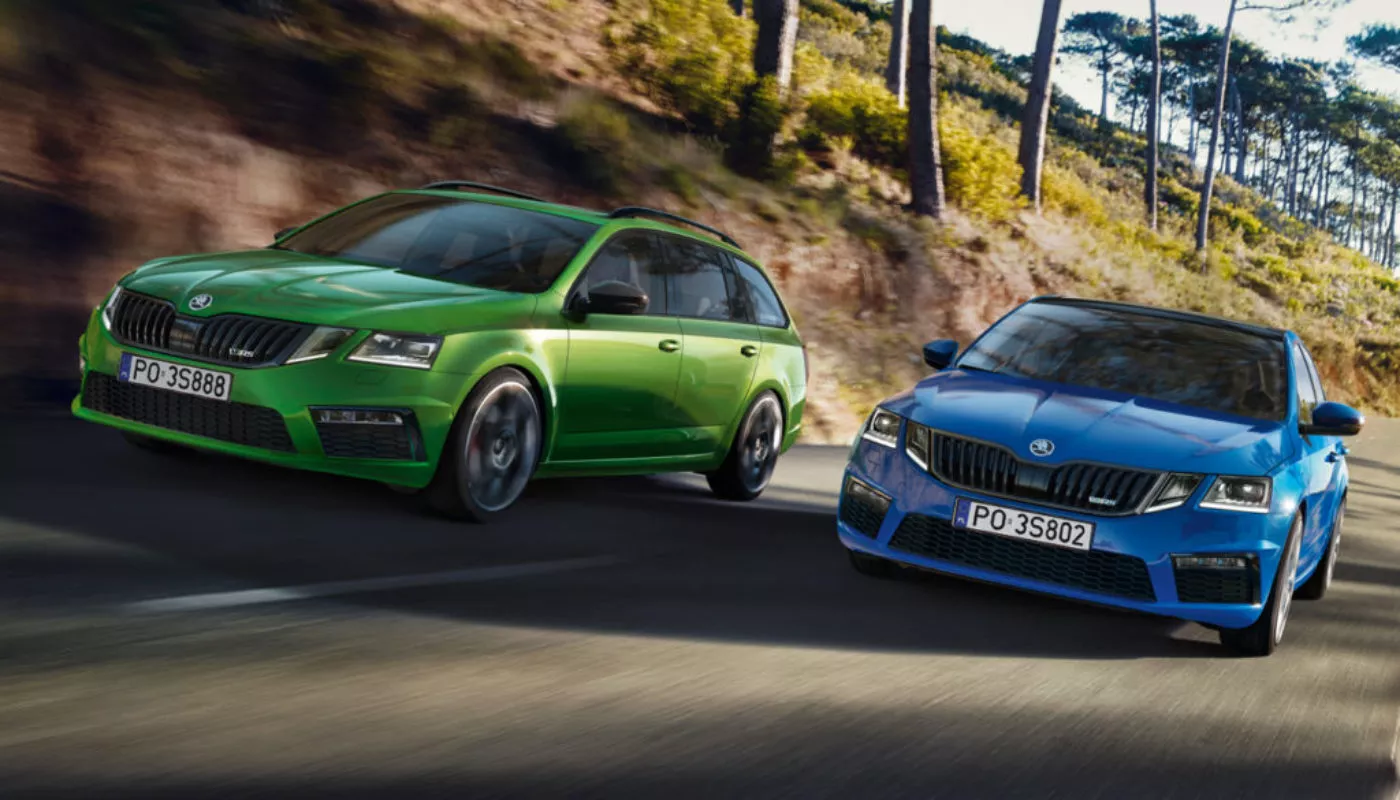tablica: (955, 497, 1093, 551), (115, 351, 231, 400)
